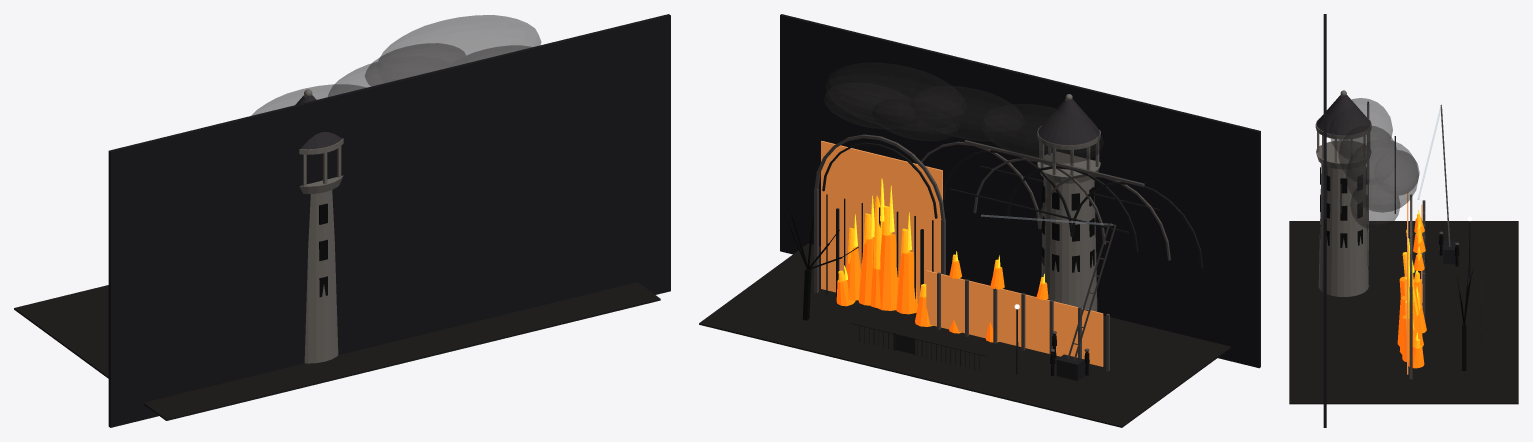
Rendered from scan-fig69-fire-1936-muse.glb.
3 views of the same model, side by side, from view 1: azimuth 30°, elevation 25°; view 2: azimuth 150°, elevation 25°; view 3: azimuth 270°, elevation 25° (orthographic). The views are drawn at different scales.
Parts seen in each view (by area): view 1: backdrop, ground, smoke_0, tower_shaft, smoke_1, smoke_4, smoke_2; view 2: backdrop, ground, transept_glow, nave_wall_glow, smoke_0, smoke_2, tower_shaft, smoke_1, smoke_4, smoke_3, tower_cap, fl_transept_1_a (+6 smaller); view 3: ground, tower_shaft, smoke_0, smoke_2, smoke_1, smoke_3, backdrop, smoke_4, tower_cap, tower_belt, fl_transept_3_a, fl_transept_2_a (+7 smaller).
Part boxes in pixels (bbox=[...]): backdrop: bbox=[108, 14, 670, 427]; ground: bbox=[14, 282, 660, 420]; smoke_0: bbox=[376, 15, 541, 82]; tower_shaft: bbox=[304, 190, 338, 363]; smoke_1: bbox=[328, 56, 453, 96]; smoke_4: bbox=[365, 43, 467, 85]; smoke_2: bbox=[251, 84, 366, 115]; backdrop: bbox=[780, 14, 1260, 368]; ground: bbox=[699, 243, 1230, 427]; transept_glow: bbox=[821, 141, 942, 304]; nave_wall_glow: bbox=[926, 270, 1103, 366]; smoke_0: bbox=[825, 62, 966, 130]; smoke_2: bbox=[980, 104, 1104, 163]; tower_shaft: bbox=[1041, 178, 1097, 311]; smoke_1: bbox=[911, 86, 1024, 141]; smoke_4: bbox=[872, 99, 960, 141]; smoke_3: bbox=[823, 83, 909, 129]; tower_cap: bbox=[1038, 99, 1099, 145]; fl_transept_1_a: bbox=[877, 234, 899, 310]; ground: bbox=[1289, 221, 1518, 404]; tower_shaft: bbox=[1318, 164, 1368, 296]; smoke_0: bbox=[1346, 139, 1418, 212]; smoke_2: bbox=[1329, 98, 1392, 159]; smoke_1: bbox=[1338, 125, 1396, 183]; smoke_3: bbox=[1350, 180, 1399, 229]; backdrop: bbox=[1323, 14, 1326, 427]; smoke_4: bbox=[1374, 150, 1419, 195]; tower_cap: bbox=[1316, 95, 1370, 135]; tower_belt: bbox=[1316, 140, 1370, 169]; fl_transept_3_a: bbox=[1402, 315, 1416, 362]; fl_transept_2_a: bbox=[1399, 296, 1421, 354].
Size of the model in its own units: 34 by 16.26 by 16.
